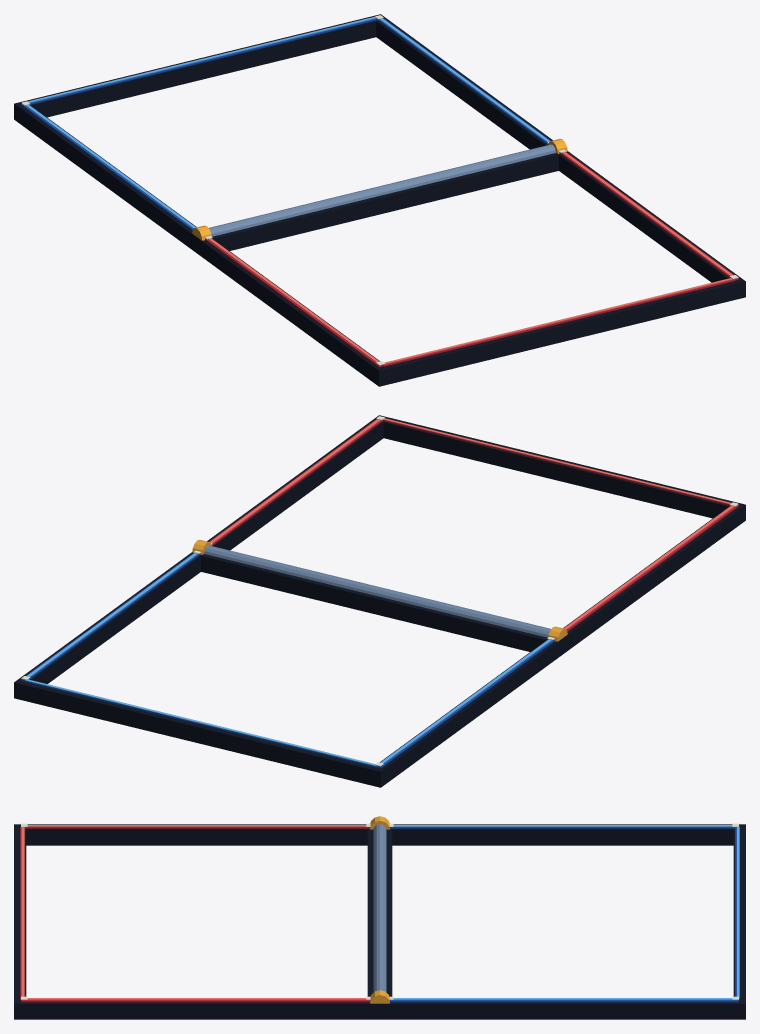
File: jump_flip_pair_frame.obj
3 renders of one model, top to bottom at view 1: azimuth 30°, elevation 25°; view 2: azimuth 150°, elevation 25°; view 3: azimuth 270°, elevation 25°, orthographic.
Visible parts, largest first — view 1: red_end_shell, red_side_shell, blue_side_shell, blue_end_shell, hinge_axle, red_border, blue_border, red_rim_light, blue_rim_light; view 2: blue_end_shell, blue_side_shell, red_side_shell, red_end_shell, hinge_axle, blue_rim_light, red_rim_light, blue_border, red_border; view 3: blue_side_shell, red_side_shell, red_end_shell, blue_end_shell, hinge_axle, red_border, blue_border, red_rim_light, blue_rim_light, hinge_cap.
Part boxes in pixels (bbox=[...]): red_end_shell: bbox=[196, 153, 745, 386]; red_side_shell: bbox=[196, 151, 745, 386]; blue_side_shell: bbox=[14, 14, 552, 252]; blue_end_shell: bbox=[14, 14, 385, 251]; hinge_axle: bbox=[209, 144, 555, 236]; red_border: bbox=[205, 152, 738, 367]; blue_border: bbox=[21, 18, 550, 230]; red_rim_light: bbox=[208, 152, 733, 364]; blue_rim_light: bbox=[25, 17, 549, 228]; blue_end_shell: bbox=[14, 554, 563, 786]; blue_side_shell: bbox=[14, 552, 563, 787]; red_side_shell: bbox=[207, 415, 745, 653]; red_end_shell: bbox=[374, 415, 745, 636]; hinge_axle: bbox=[204, 545, 550, 637]; blue_rim_light: bbox=[25, 553, 551, 766]; red_rim_light: bbox=[210, 418, 734, 629]; blue_border: bbox=[21, 553, 554, 768]; red_border: bbox=[209, 419, 738, 631]; blue_side_shell: bbox=[380, 824, 745, 1019]; red_side_shell: bbox=[14, 824, 379, 1019]; red_end_shell: bbox=[14, 824, 379, 1019]; blue_end_shell: bbox=[380, 824, 745, 1019]; hinge_axle: bbox=[373, 824, 386, 992]; red_border: bbox=[20, 827, 370, 1002]; blue_border: bbox=[389, 827, 739, 1002]; red_rim_light: bbox=[21, 825, 366, 999]; blue_rim_light: bbox=[393, 825, 739, 999]; hinge_cap: bbox=[370, 816, 389, 1003].
Size of the model in its own units: 11.6 by 0.74 by 20.
